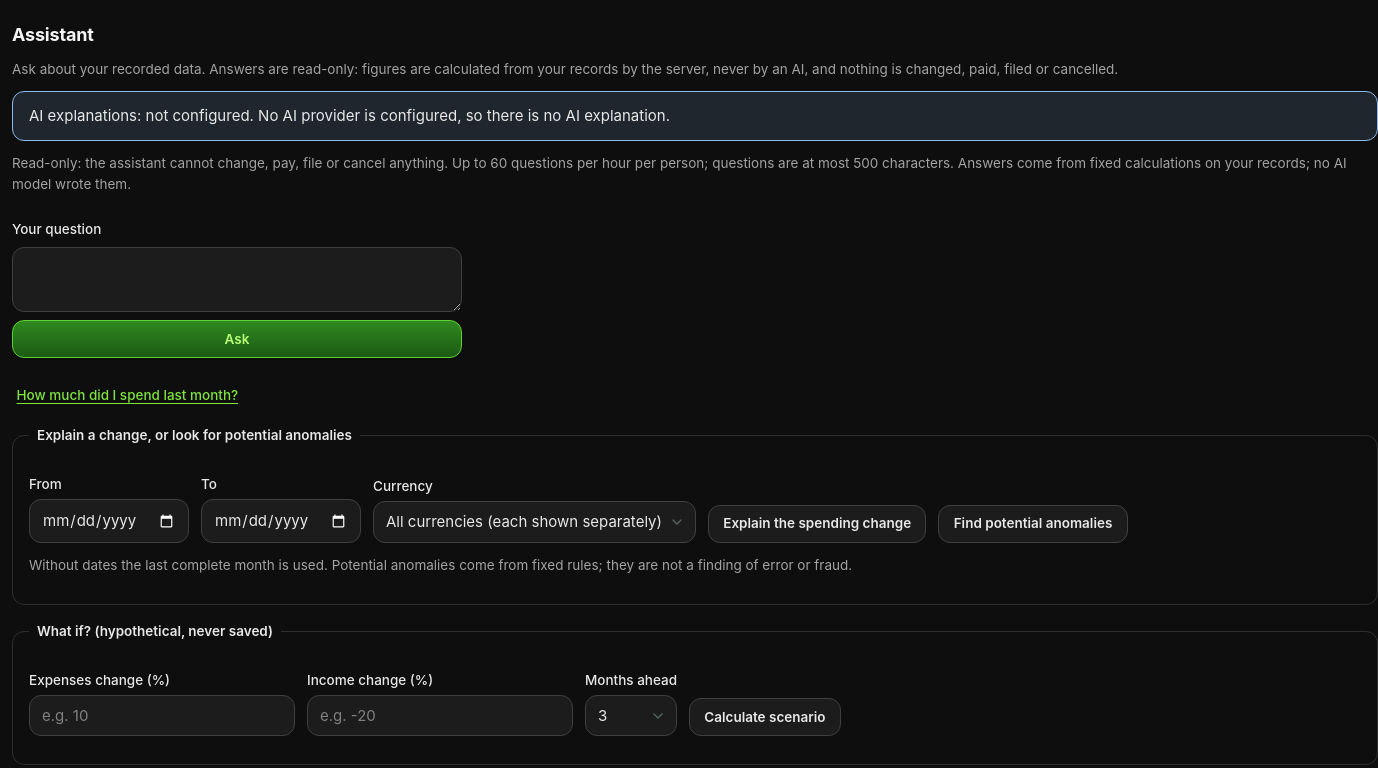
it: assistant › sends explicit what-if assumptions and shows the hypothetical result apart from actuals
Type "10" into the field labelled "Expenses change (%)". click: (162, 716)
box: top-left (29, 695), bottom-right (295, 736)
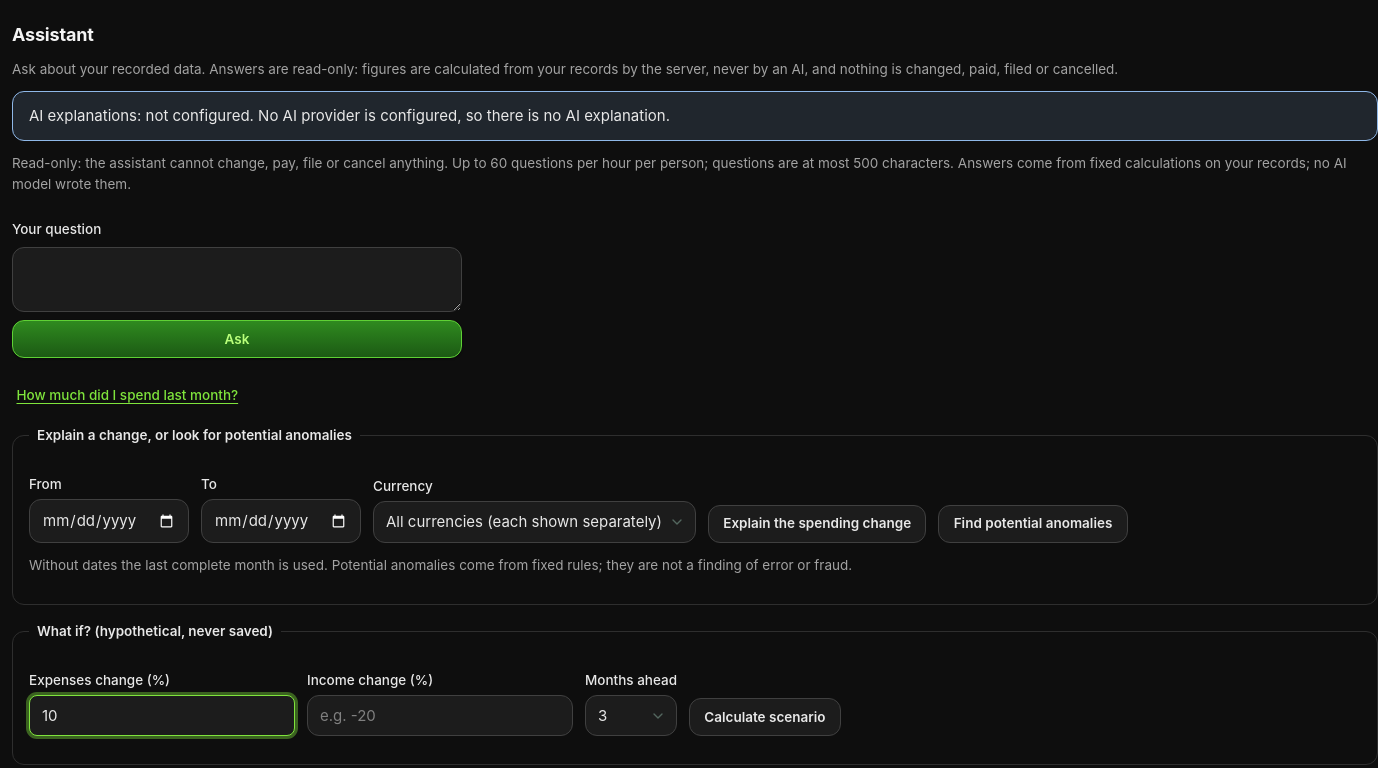
Type "-20" into the field labelled "Income change (%)". click: (440, 716)
box: top-left (307, 695), bottom-right (573, 736)
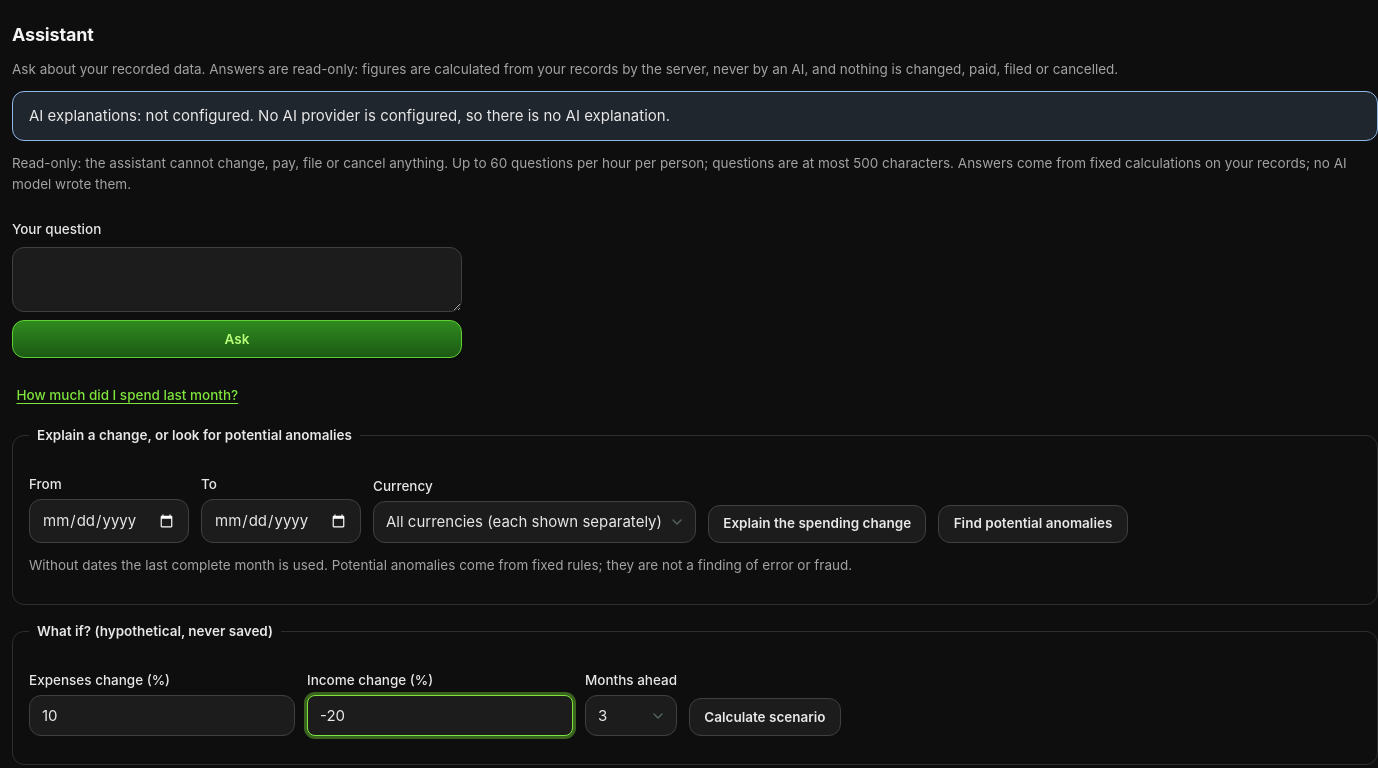
Select "2" in the dropdown labelled "Months ahead". click: (631, 716)
box: top-left (585, 695), bottom-right (677, 736)
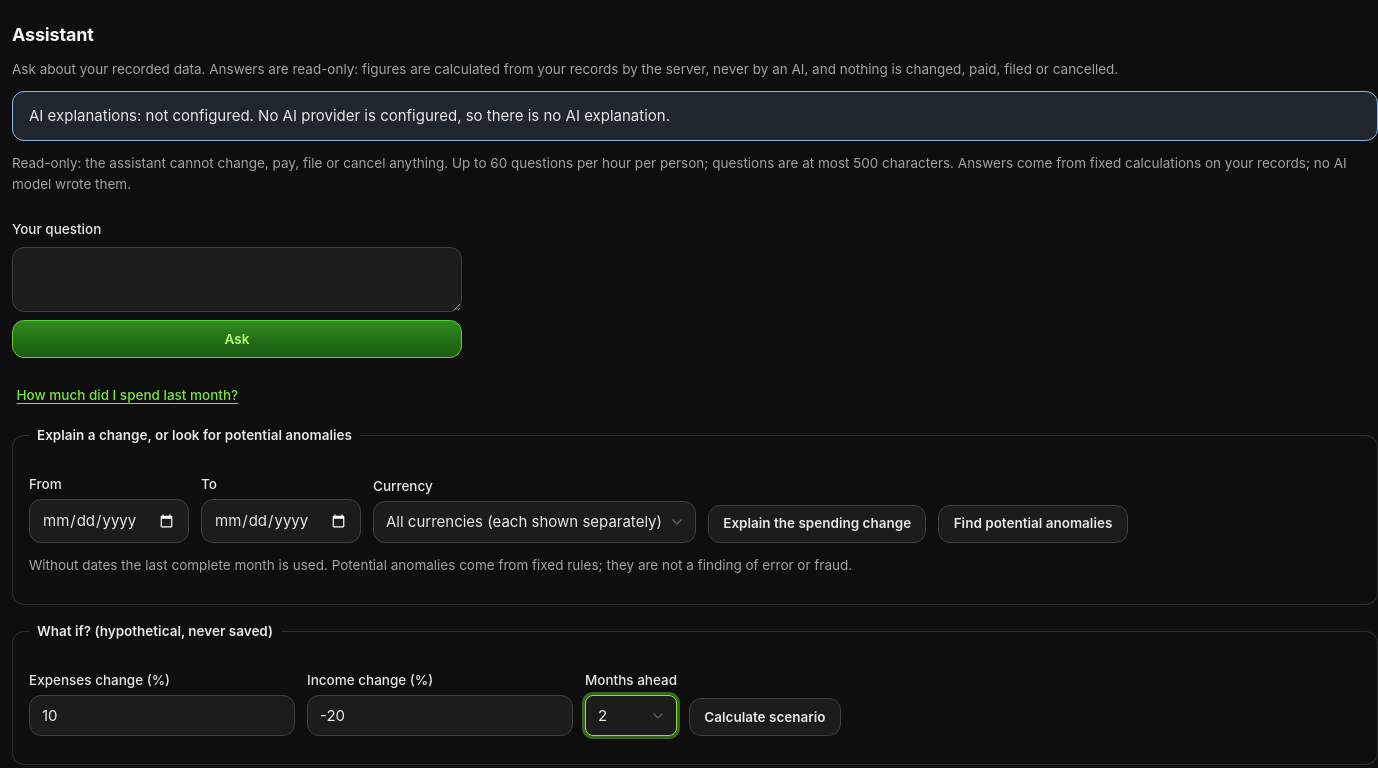
Click the button "Calculate scenario". click: (765, 717)
box: top-left (689, 698), bottom-right (841, 736)
(page scrolled)
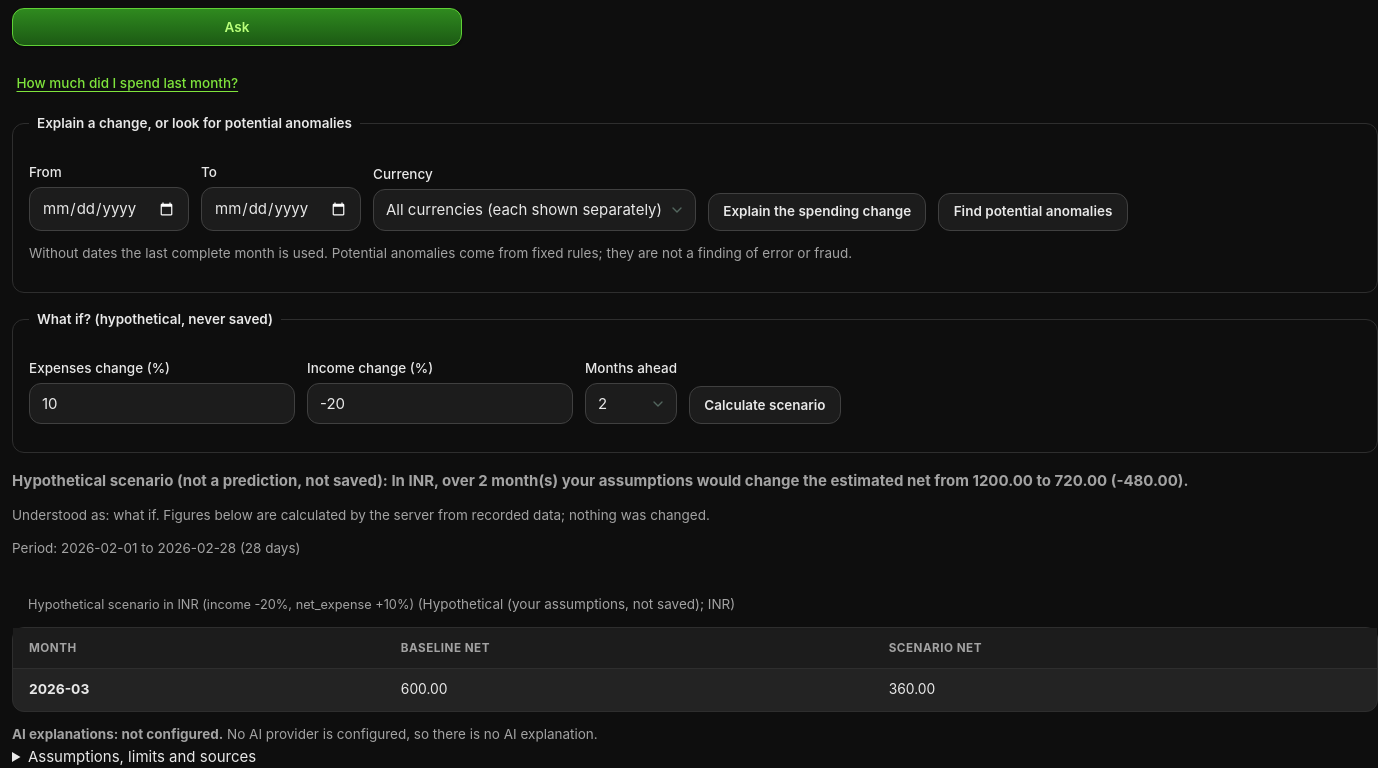
Now the text "Hypothetical scenario (not a prediction, not saved)" is shown, box top-left (12, 471), bottom-right (1188, 490)
Now the text "(Hypothetical (your assumptions, not saved); INR)" is shown, box top-left (418, 596), bottom-right (735, 612)
